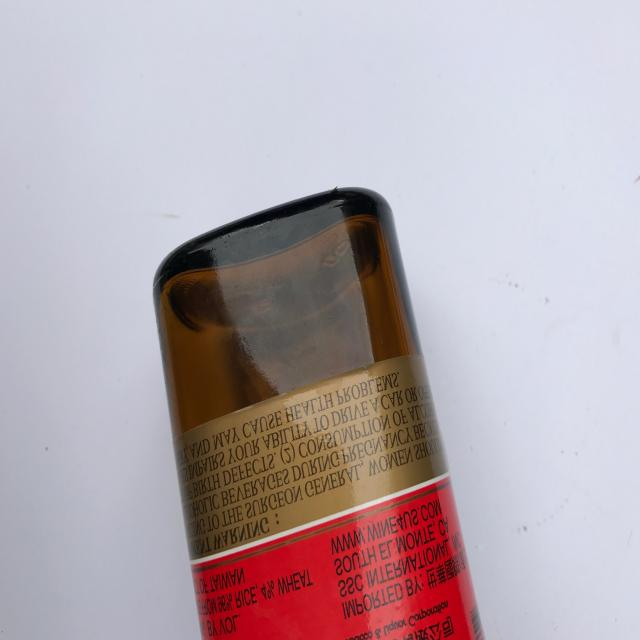glass: (152, 185, 490, 640)
